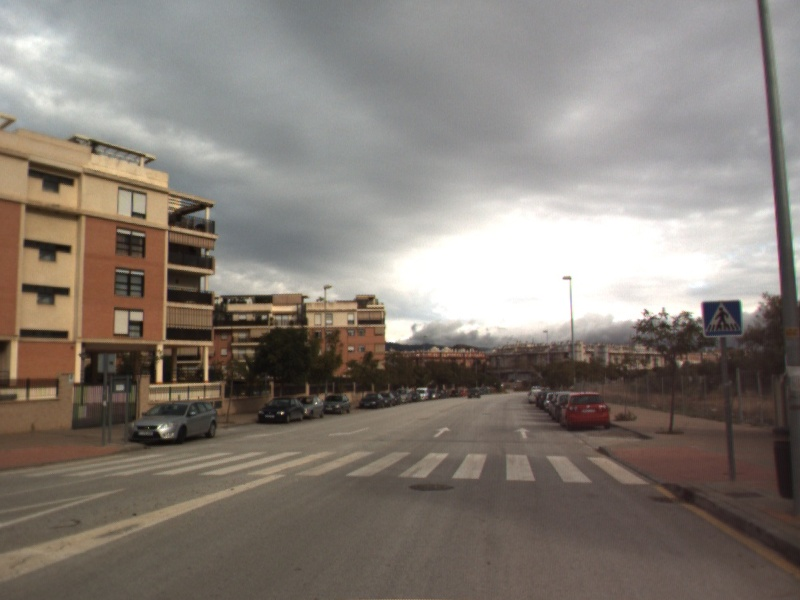STRAIGHT: (431, 425, 453, 439), (512, 426, 532, 440)
